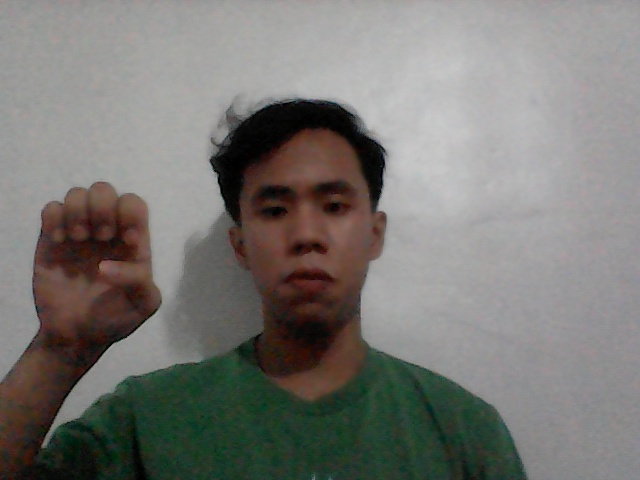E: (6, 170, 197, 367)
